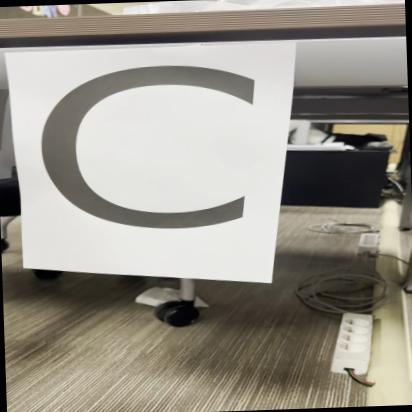seat: (12, 43, 293, 278)
